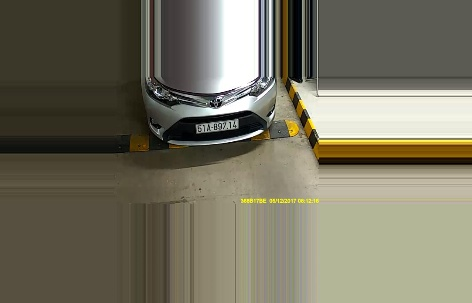plate: (191, 118, 240, 134)
